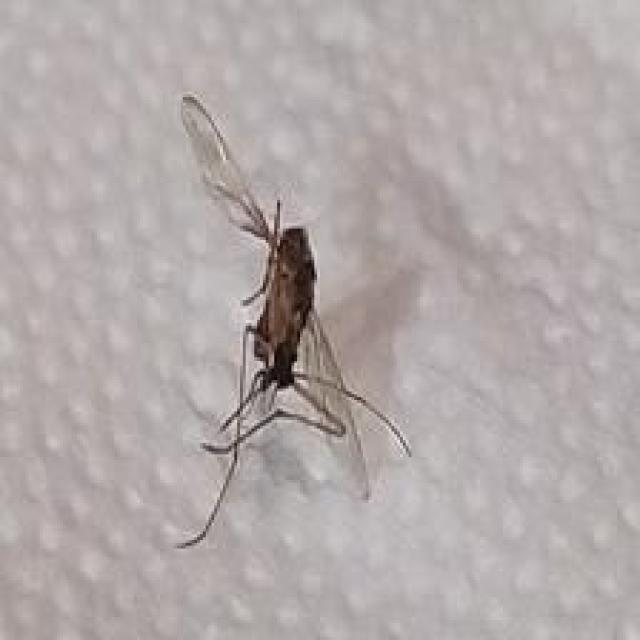Culex: (172, 90, 412, 550)
